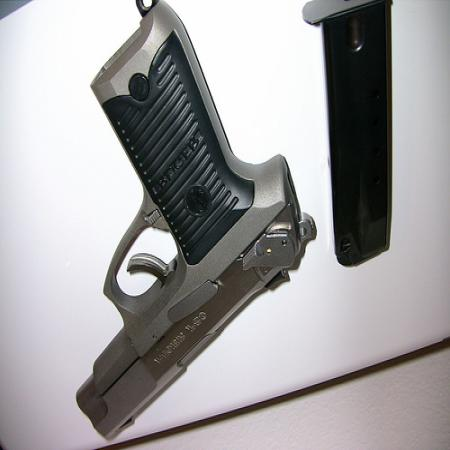Pistol: (68, 6, 316, 440)
